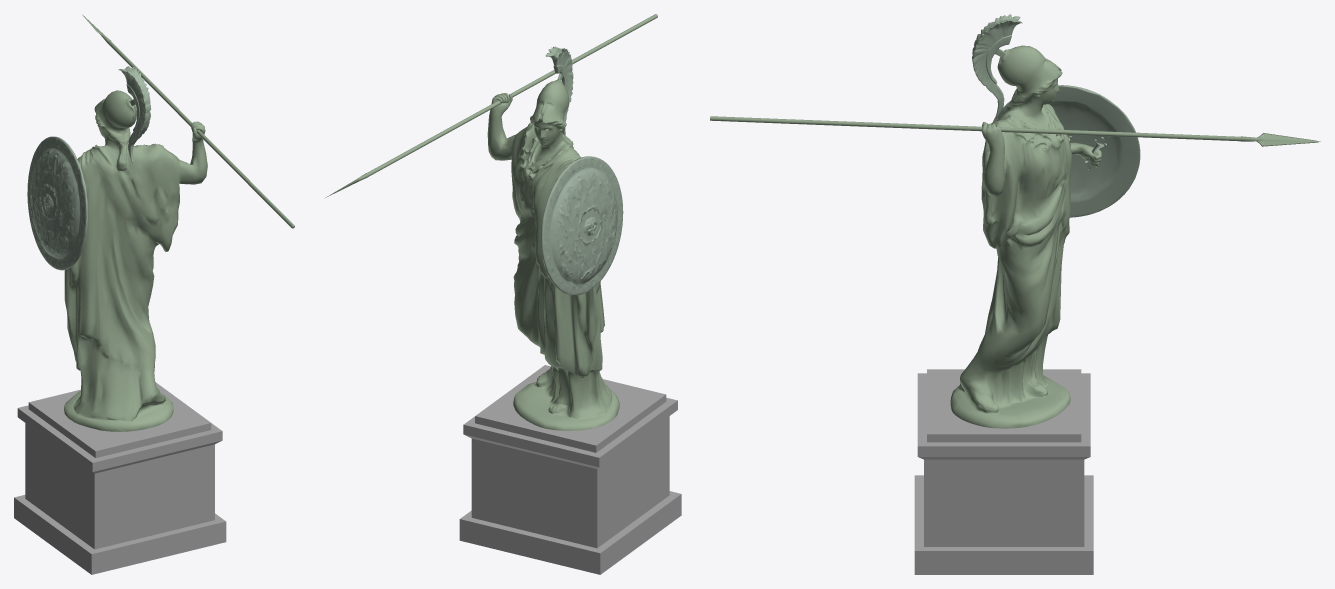
The model's file is promachos no normal.glb.
The picture shows the model from 3 angles, left to right: view 1: azimuth 30°, elevation 25°; view 2: azimuth 150°, elevation 25°; view 3: azimuth 270°, elevation 25°; orthographic projection. The views are drawn at different scales.
Parts seen in each view (by area): view 1: Athena_Promachos, Promachos_Base; view 2: Athena_Promachos, Promachos_Base; view 3: Athena_Promachos, Promachos_Base.
Boxes of the visible parts, x1=… form: Athena_Promachos: x1=27, y1=14, x2=294, y2=431; Promachos_Base: x1=14, y1=382, x2=226, y2=574; Athena_Promachos: x1=324, y1=14, x2=657, y2=430; Promachos_Base: x1=459, y1=365, x2=681, y2=574; Athena_Promachos: x1=710, y1=14, x2=1320, y2=428; Promachos_Base: x1=914, y1=369, x2=1093, y2=574.
Bounding box in the file's own units: 6.22 × 16.3 × 17.15.
